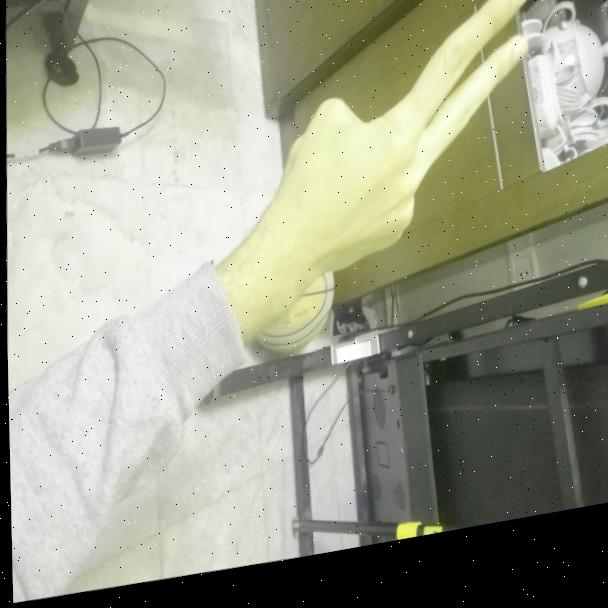two: (269, 0, 543, 282)
